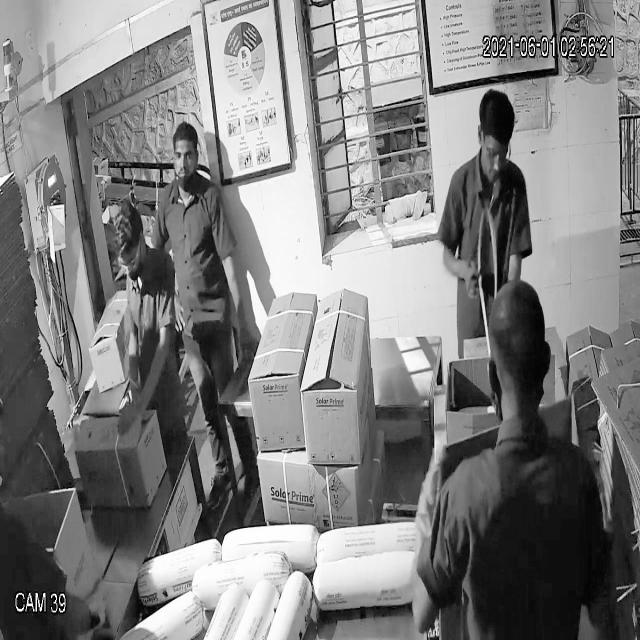glasses: (473, 132, 518, 174), (108, 238, 147, 276)
